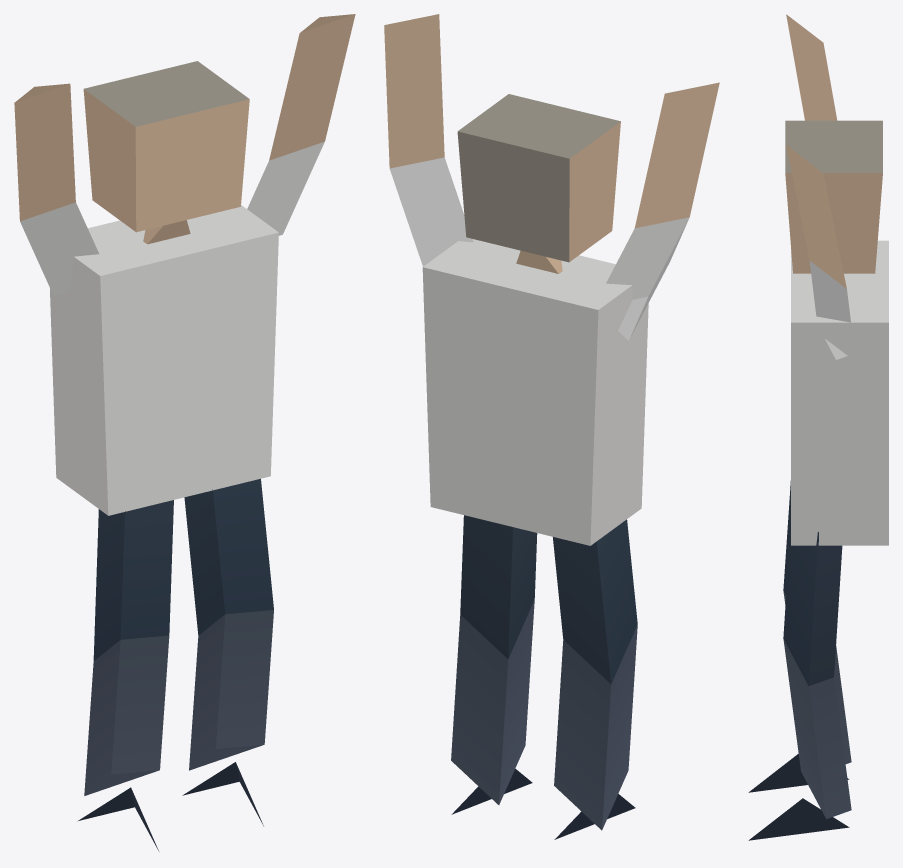
File: fan-08.glb
3 renders of one model, left to right at view 1: azimuth 30°, elevation 25°; view 2: azimuth 150°, elevation 25°; view 3: azimuth 270°, elevation 25°, orthographic. The views are drawn at different scales.
Visible parts, largest first — view 1: fan-08; view 2: fan-08; view 3: fan-08.
Part boxes in pixels (bbox=[...]): fan-08: bbox=[14, 14, 355, 850]; fan-08: bbox=[384, 14, 719, 839]; fan-08: bbox=[748, 14, 888, 840].
Bounding box in the file's own units: 0.9175 × 2.06 × 0.36.
